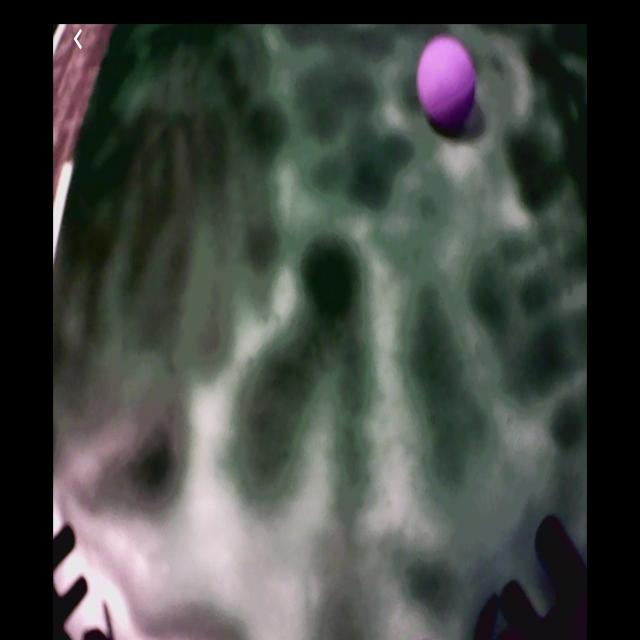ball: (418, 38, 478, 132)
